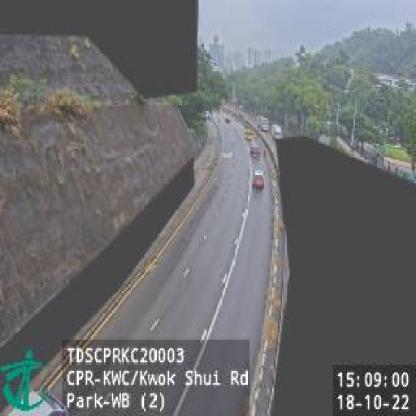Car: (253, 167, 266, 192), (250, 144, 260, 160)
